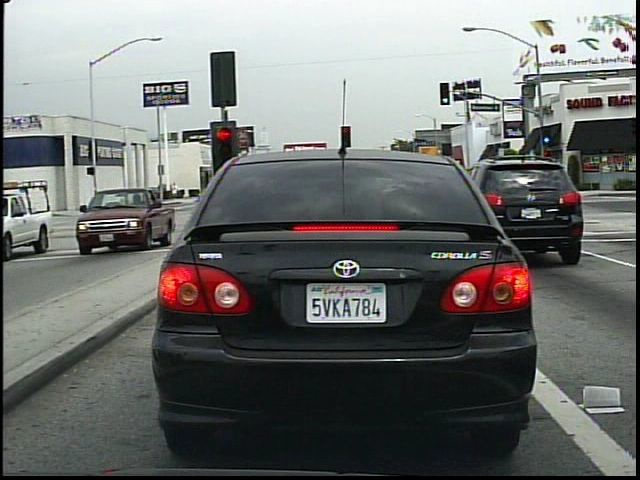person: (170, 179, 181, 204)
